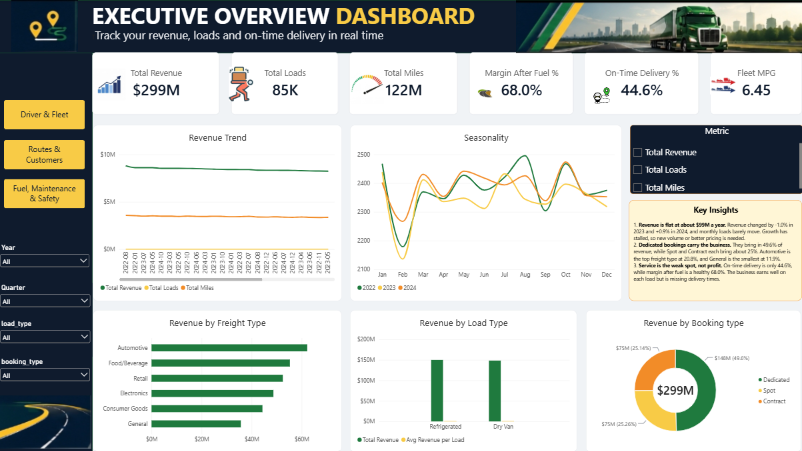

Layout of this report page (visuals, bound fields, positions):
{"tool":"powerbi","page":{"name":"Executive Overview","canvas":[1920,1080],"ordinal":0},"visuals":[{"type":"shape","box":[0,0,225.2,1080.9],"z":0},{"type":"shape","box":[0,0,1920.7,126.5],"z":1000},{"type":"textbox","box":[225.2,0,1696.5,127.6],"z":2000},{"type":"slicer","fields":{"Values":["Date.Year"]},"box":[0,579.8,222.7,95.1],"z":3000},{"type":"slicer","fields":{"Values":["Date.Quarter"]},"box":[0,675.2,225.2,85.1],"z":4000},{"type":"slicer","fields":{"Values":["Trips.load_type"]},"box":[0,761.1,225.2,90.1],"z":5000},{"type":"slicer","fields":{"Values":["Trips.booking_type"]},"box":[0,851.8,224.3,78.7],"z":6000},{"type":"cardVisual","fields":{"Data":["_Measures.Total Revenue"]},"box":[225.2,125.1,305.3,150.1],"z":7000},{"type":"cardVisual","fields":{"Data":["_Measures.Total Loads"]},"box":[555.5,125.1,257.7,150.1],"z":8000},{"type":"cardVisual","fields":{"Data":["_Measures.Total Miles"]},"box":[838.2,125.1,260.2,150.1],"z":9000},{"type":"cardVisual","fields":{"Data":["_Measures.Margin After Fuel %"]},"box":[1123.5,125.1,250.2,150.1],"z":10000},{"type":"cardVisual","fields":{"Data":["_Measures.On-Time Delivery %"]},"box":[1398.7,125.1,275.2,150.1],"z":11000},{"type":"cardVisual","fields":{"Data":["_Measures.Fleet MPG"]},"box":[1699,125.1,220.2,150.1],"z":12000},{"type":"lineChart","title":"Revenue Trend","fields":{"Category":["Date.Year-Month"],"Y":["_Measures.Total Revenue","_Measures.Total Loads","_Measures.Total Miles"]},"box":[226.7,298.2,594.1,419.9],"z":13000},{"type":"lineChart","title":"Seasonality","fields":{"Category":["Date.Month"],"Series":["Date.Year"],"Y":["_Measures.Total Loads"]},"box":[839.8,298.2,649,419.9],"z":14000},{"type":"donutChart","title":" Revenue by Booking type","fields":{"Category":["Trips.booking_type"],"Y":["_Measures.Total Revenue"]},"box":[1402.9,739.6,513,341.2],"z":15000},{"type":"barChart","title":"Revenue by Freight Type","fields":{"Category":["Customers.primary_freight_type"],"Y":["_Measures.Total Revenue"]},"box":[226.7,739.6,593,340.3],"z":16000},{"type":"clusteredColumnChart","title":" Revenue by Load Type","fields":{"Category":["Trips.load_type"],"Y":["_Measures.Total Revenue","_Measures.Avg Revenue per Load"]},"box":[839.8,739.6,541.6,341.2],"z":17000},{"type":"slicer","title":"Metric","fields":{"Values":["Metric.Metric"]},"box":[1507.9,298.2,412.8,164.6],"z":18000},{"type":"actionButton","title":"Driver & Fleet","box":[14.3,238.6,192.7,70.1],"z":19000},{"type":"actionButton","box":[14.3,334,192.7,70.1],"z":20000},{"type":"actionButton","box":[14.3,427.1,192.7,70.1],"z":21000},{"type":"textbox","box":[225.2,65.1,928.3,62.6],"z":22000},{"type":"image","box":[0,0,221.9,124.1],"z":23000},{"type":"image","box":[0,932.9,221.9,147.9],"z":24000},{"type":"image","box":[1235.2,0,684.8,126.5],"z":25000},{"type":"image","box":[1130.9,167,64.4,107.4],"z":26000},{"type":"image","box":[551.1,126.5,57.3,147.9],"z":27000},{"type":"image","box":[839.8,126.5,81.1,150.3],"z":28000},{"type":"image","box":[226.7,126.5,78.7,147.9],"z":29000},{"type":"image","box":[1402.9,186.1,78.7,88.3],"z":30000},{"type":"image","box":[1698.8,131.2,64.4,145.5],"z":31000},{"type":"textbox","title":"Key Insights","box":[1505.5,477.2,412.8,241],"z":31001}]}

Visuals, with their boxes in screenshot pixels (x1, y1, x2, y2), scaled from the page's 1920x1080 canvas onto the 802x451 screenshot:
shape: [left=0, top=0, right=94, bottom=450]
shape: [left=0, top=0, right=801, bottom=53]
textbox: [left=94, top=0, right=801, bottom=53]
slicer - Date.Year: [left=0, top=242, right=93, bottom=282]
slicer - Date.Quarter: [left=0, top=282, right=94, bottom=317]
slicer - Trips.load_type: [left=0, top=318, right=94, bottom=355]
slicer - Trips.booking_type: [left=0, top=356, right=94, bottom=389]
cardVisual - _Measures.Total Revenue: [left=94, top=52, right=222, bottom=115]
cardVisual - _Measures.Total Loads: [left=232, top=52, right=340, bottom=115]
cardVisual - _Measures.Total Miles: [left=350, top=52, right=459, bottom=115]
cardVisual - _Measures.Margin After Fuel %: [left=469, top=52, right=574, bottom=115]
cardVisual - _Measures.On-Time Delivery %: [left=584, top=52, right=699, bottom=115]
cardVisual - _Measures.Fleet MPG: [left=710, top=52, right=801, bottom=115]
"Revenue Trend" lineChart: [left=95, top=125, right=343, bottom=300]
"Seasonality" lineChart: [left=351, top=125, right=622, bottom=300]
" Revenue by Booking type" donutChart: [left=586, top=309, right=800, bottom=450]
"Revenue by Freight Type" barChart: [left=95, top=309, right=342, bottom=450]
" Revenue by Load Type" clusteredColumnChart: [left=351, top=309, right=577, bottom=450]
"Metric" slicer: [left=630, top=125, right=801, bottom=193]
"Driver & Fleet" actionButton: [left=6, top=100, right=86, bottom=129]
actionButton: [left=6, top=139, right=86, bottom=169]
actionButton: [left=6, top=178, right=86, bottom=208]
textbox: [left=94, top=27, right=482, bottom=53]
image: [left=0, top=0, right=93, bottom=52]
image: [left=0, top=390, right=93, bottom=450]
image: [left=516, top=0, right=801, bottom=53]
image: [left=472, top=70, right=499, bottom=115]
image: [left=230, top=53, right=254, bottom=115]
image: [left=351, top=53, right=385, bottom=116]
image: [left=95, top=53, right=128, bottom=115]
image: [left=586, top=78, right=619, bottom=115]
image: [left=710, top=55, right=737, bottom=116]
"Key Insights" textbox: [left=629, top=199, right=801, bottom=300]
